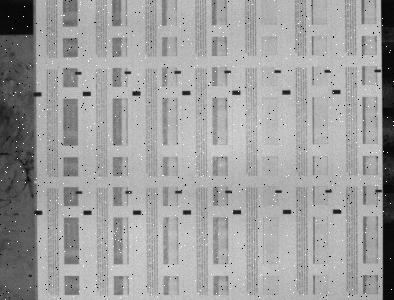backgroundclutter: (29, 274, 32, 277)
qblock: (34, 210, 43, 215), (182, 90, 191, 95), (83, 210, 92, 215), (183, 210, 192, 215), (133, 210, 142, 215), (283, 209, 292, 214), (333, 209, 342, 214), (233, 90, 241, 95), (132, 91, 141, 95), (233, 210, 242, 214), (33, 92, 42, 96), (283, 90, 291, 94), (333, 90, 341, 94), (83, 92, 91, 96)
smallqblock: (125, 190, 132, 194), (175, 190, 182, 194), (75, 71, 82, 75), (225, 70, 232, 74), (175, 70, 182, 74), (326, 189, 333, 193), (76, 191, 83, 194), (375, 69, 382, 72), (225, 190, 232, 193), (275, 70, 282, 73), (325, 70, 332, 73), (376, 189, 383, 192), (275, 190, 282, 193), (125, 71, 131, 74)
